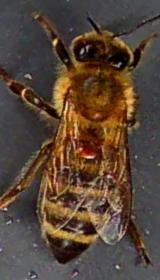varroa_mite: (72, 138, 104, 166)
